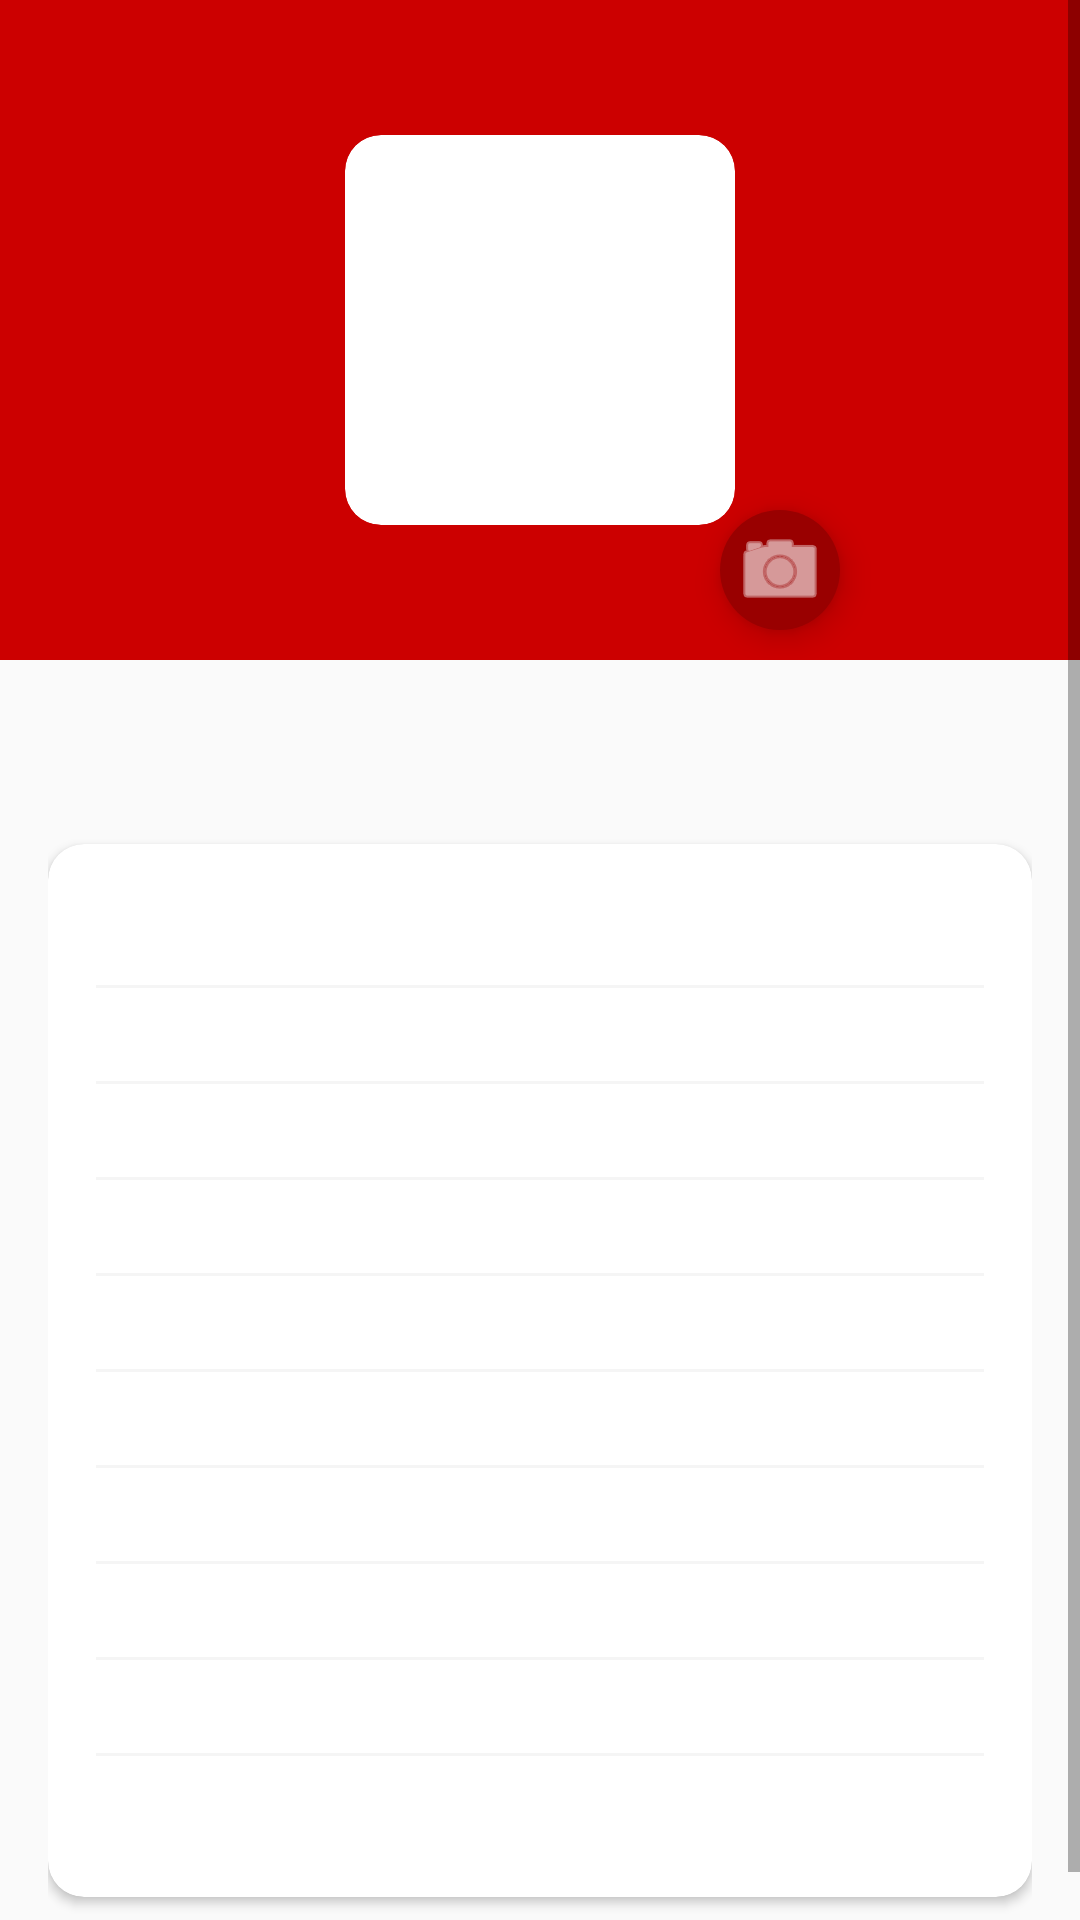

Icons on this 1080×1920 Android screen, each with its box as (x1, y1, x2, y2):
Câmera: (720, 510, 840, 630)
